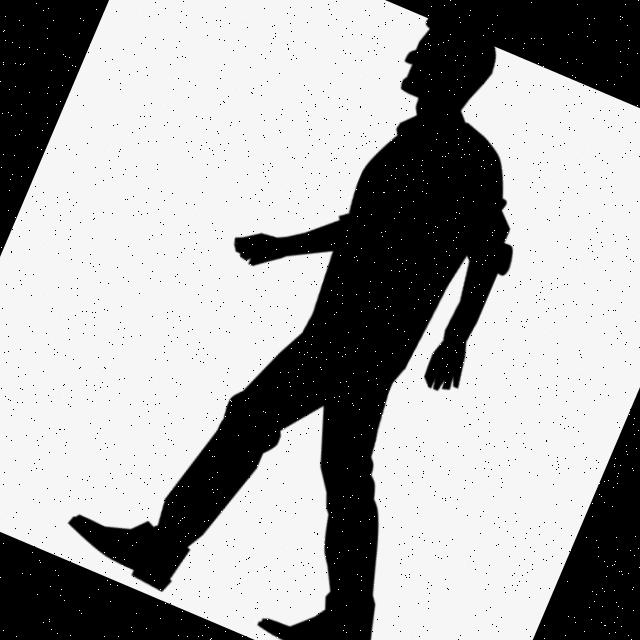Person: (53, 0, 609, 640)
